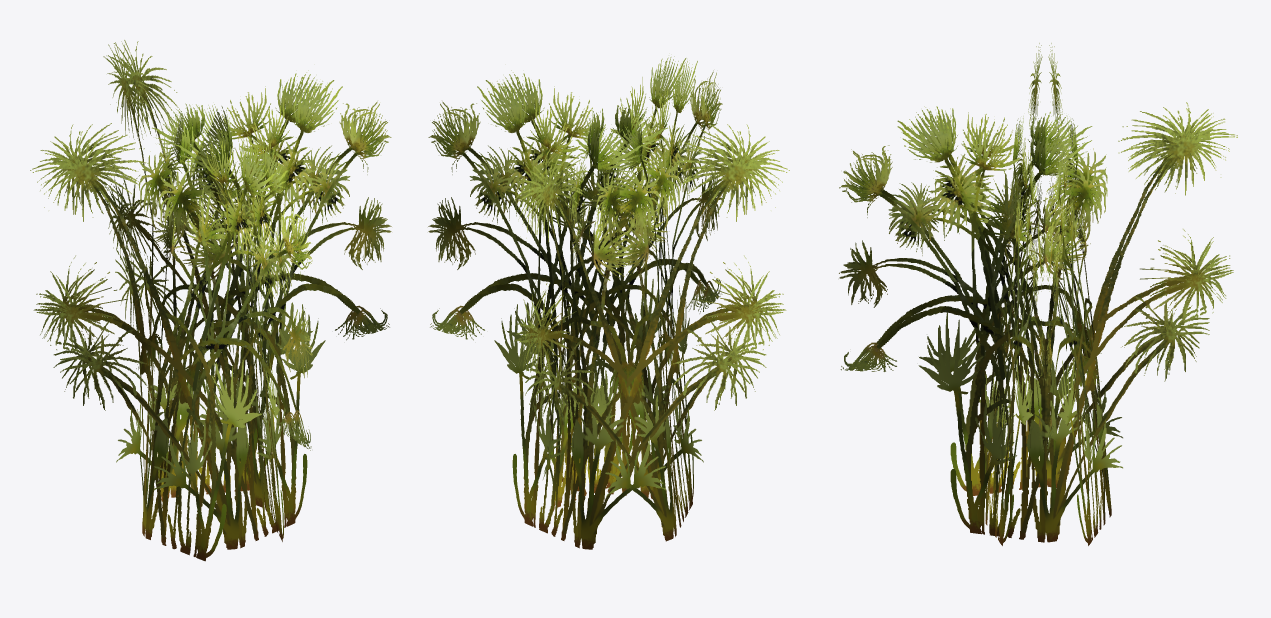
The model's file is papyrus_2.glb.
3 renders of one model, left to right at view 1: azimuth 30°, elevation 25°; view 2: azimuth 150°, elevation 25°; view 3: azimuth 270°, elevation 25°, orthographic. The views are drawn at different scales.
Parts seen in each view (by area): view 1: papyrus_2; view 2: papyrus_2; view 3: papyrus_2.
Part boxes in pixels (x1,y1,x2,y2): papyrus_2: (30,40,391,561); papyrus_2: (428,56,789,549); papyrus_2: (839,43,1237,545).
Size of the model in its own units: 6.88 by 7.39 by 6.88.
Materials: 1 (1 with a texture image).
